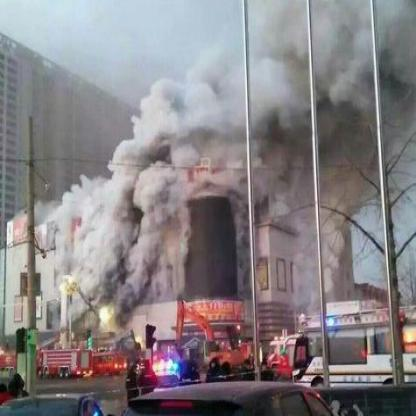smoke: (45, 166, 163, 308), (312, 1, 414, 113), (132, 59, 242, 162), (249, 6, 311, 132)
